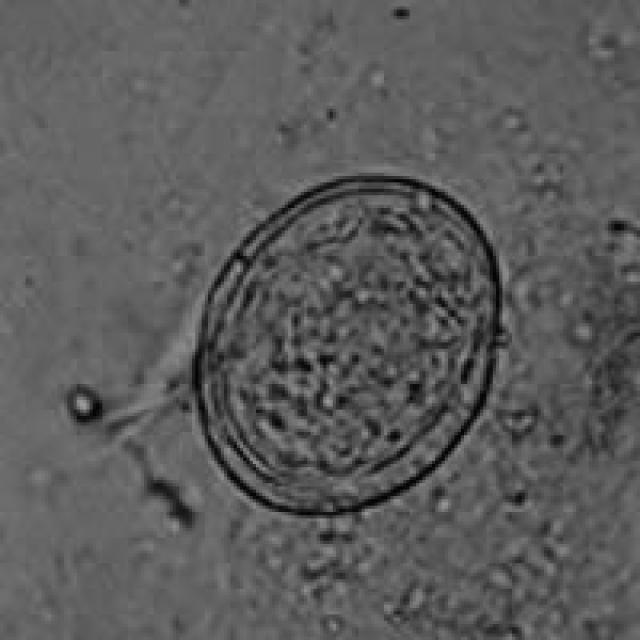Schistosoma: (185, 165, 502, 520)
